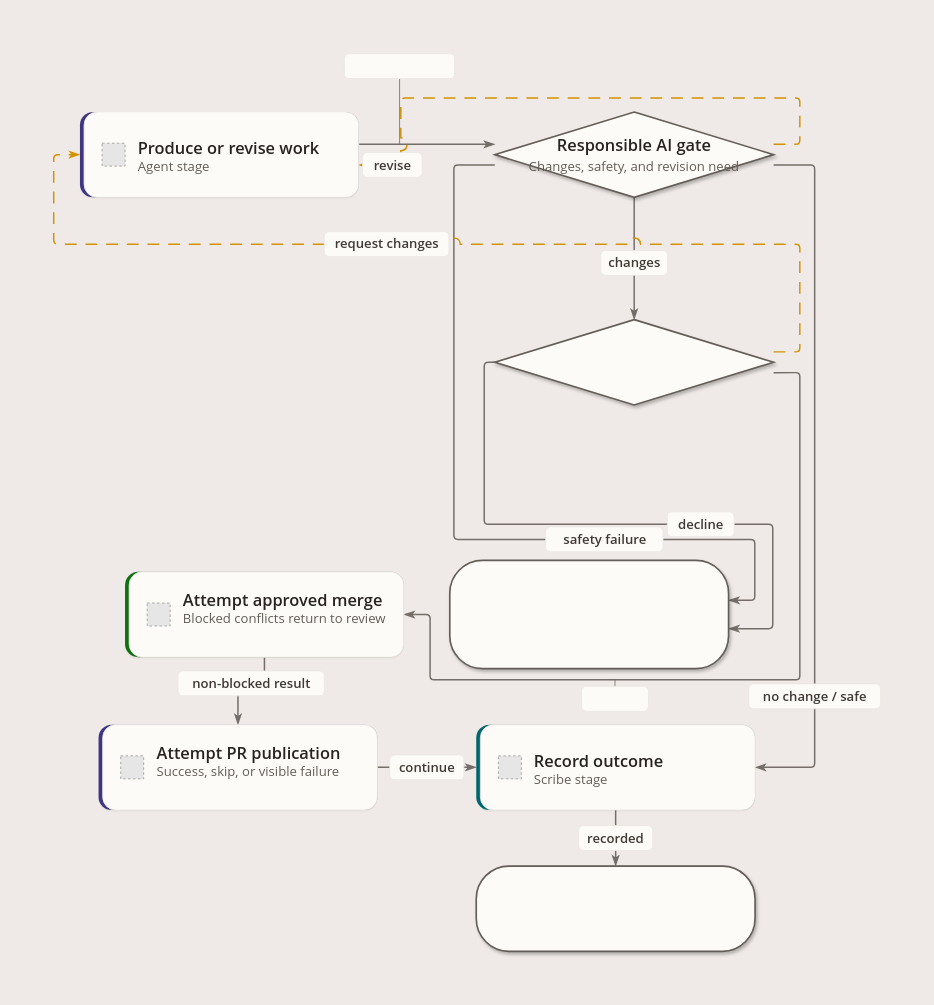
This 934x1005 diagram has some shape labels left out. Grey dashed boxes stand in for pictures. Here are the shapes that lost their labels. From the top down, the centre of each, then its label:
point 399,66: turn complete
point 634,363: Human review Approve, request changes, or decline
point 589,615: Explicit unsuccessful outcome Turn failure, safety failure, or decline
point 614,698: approve
point 616,910: Workflow path finished Not a guarantee of merge or publication
